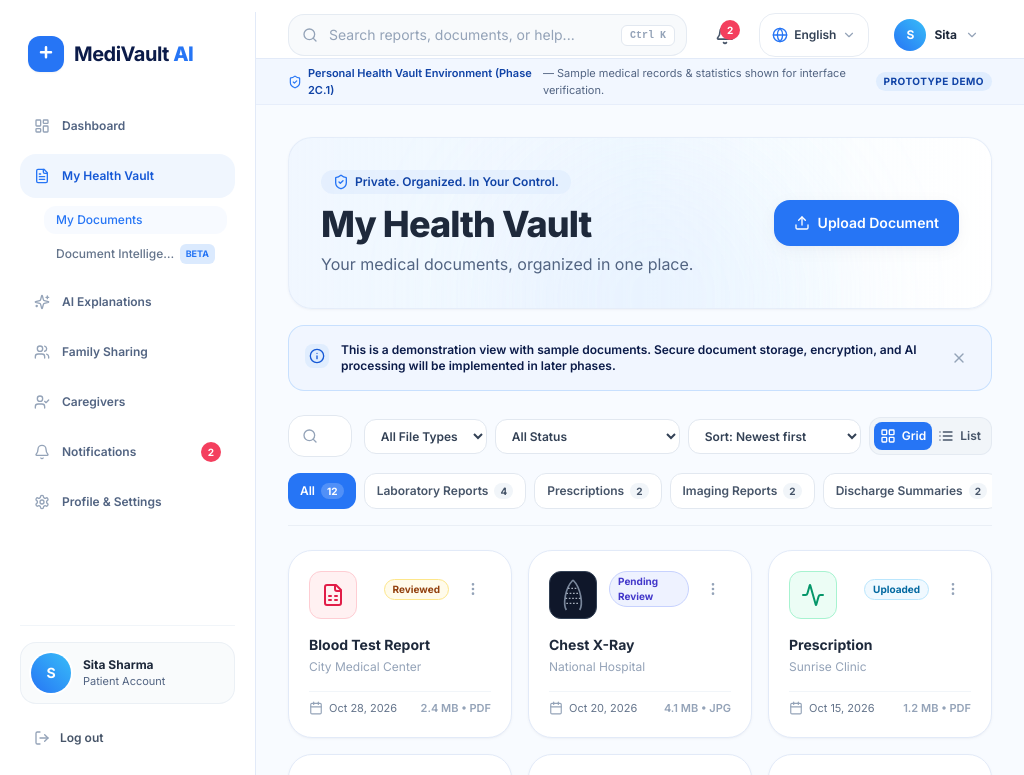
Scenario: MediVault AI — Phase 2C.1 Personal Health Vault Frontend Suite › 7. filters documents by file type dropdown
Select "JPG / JPEG" in the dropdown named "All File Types". click: x=425, y=436
box: [364,418,487,454]
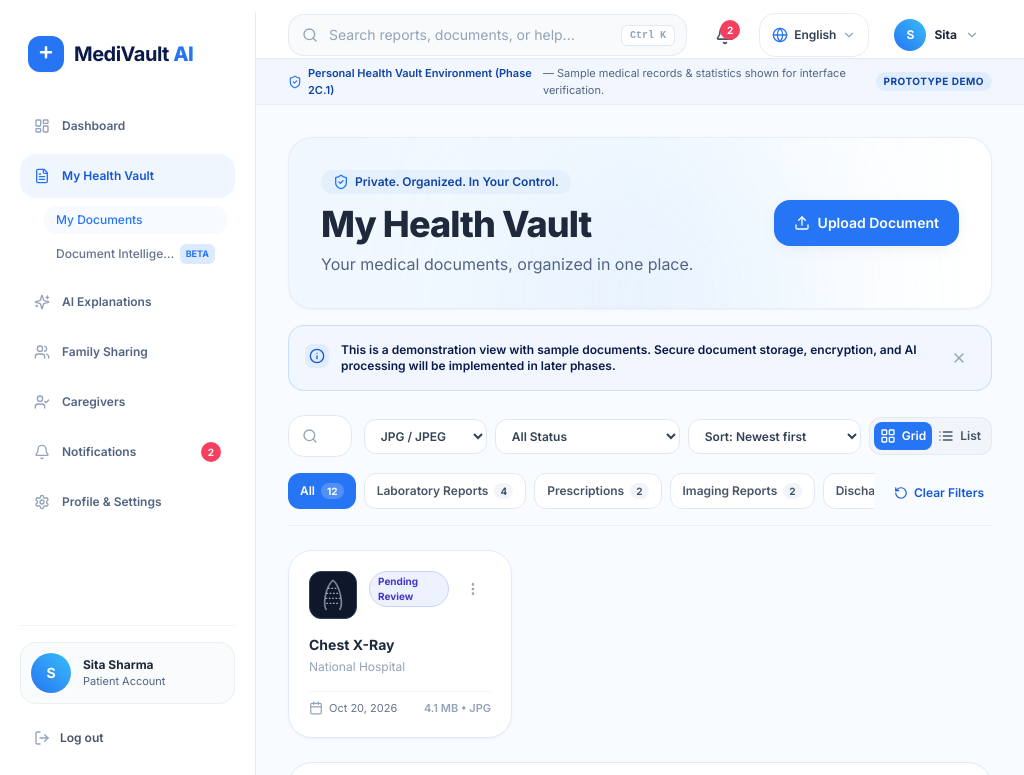
Expected: the heading "Chest X-Ray" is shown, [309,636,394,653]
Result: the button "Blood Test Report" is gone
